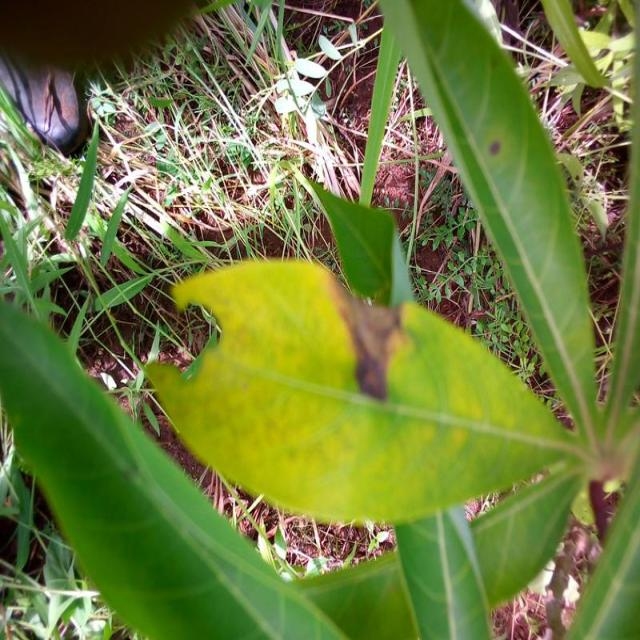cassava leaf: (142, 256, 578, 527)
